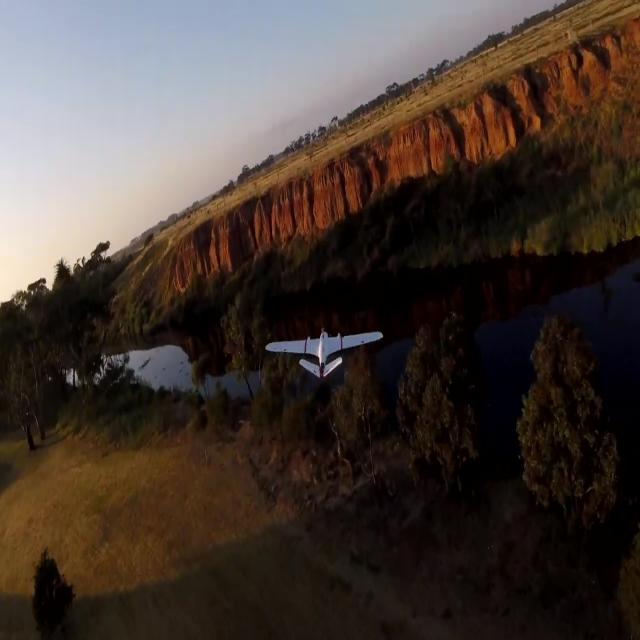iha: (297, 328, 352, 379)
